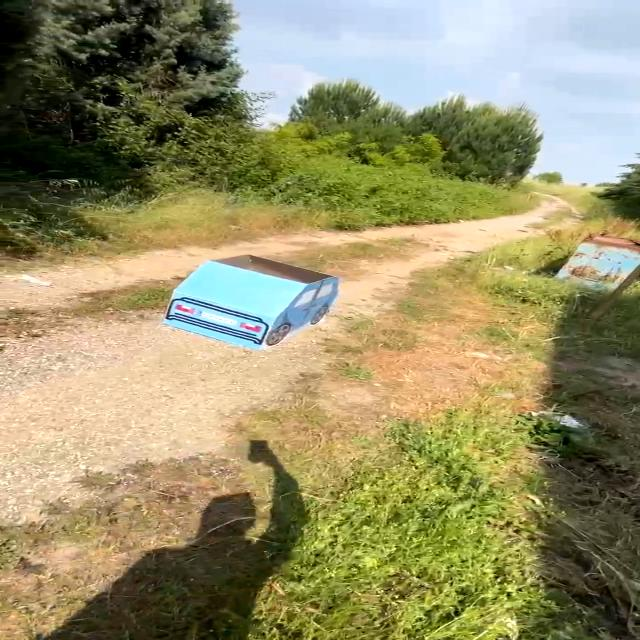blue_car: (135, 246, 357, 360)
